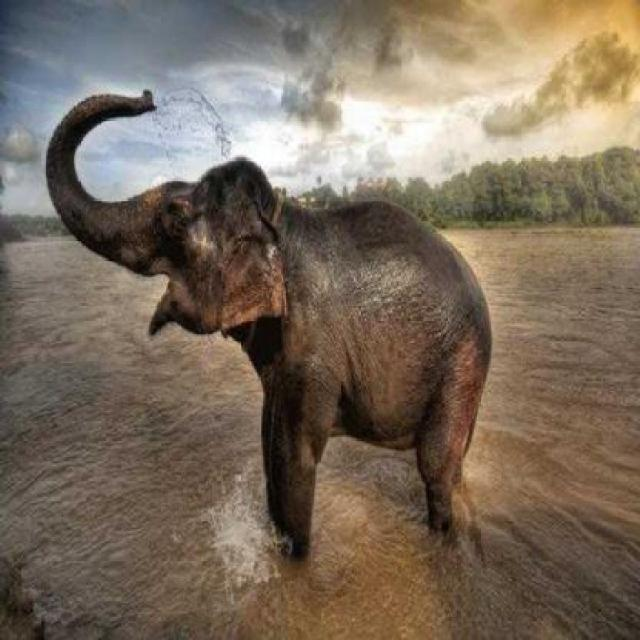Elephant: (39, 88, 498, 581)
